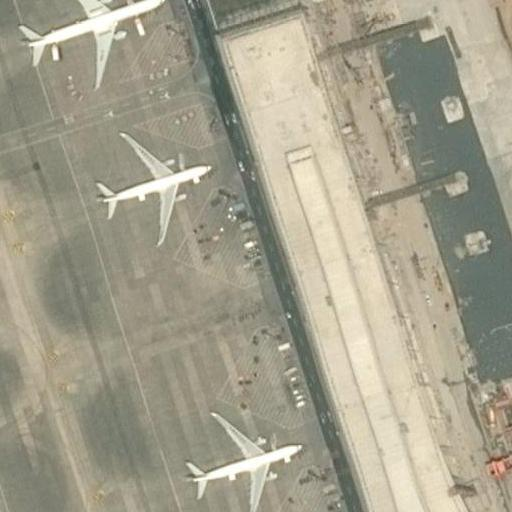Aircraft: (9, 0, 163, 95), (95, 129, 208, 247), (179, 408, 302, 512)
